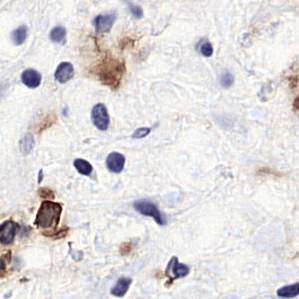Lymphocyte: (34, 201, 64, 230)
